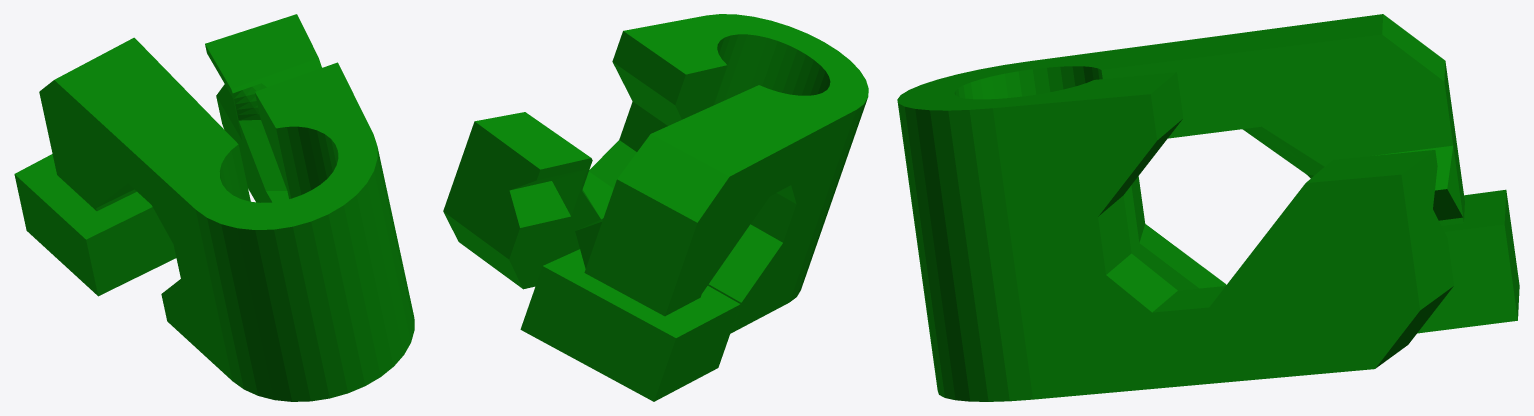
The model's file is barClamp1_3.dae.
3 renders of one model, left to right at view 1: azimuth 30°, elevation 25°; view 2: azimuth 150°, elevation 25°; view 3: azimuth 270°, elevation 25°, orthographic. The views are drawn at different scales.
Visible parts, largest first — view 1: scrap2; view 2: scrap2; view 3: scrap2.
Boxes of the visible parts, box(x1,y1,x2,y2) form: scrap2: box(14, 14, 414, 401); scrap2: box(443, 14, 868, 401); scrap2: box(897, 14, 1519, 401).
Bounding box in the file's own units: 0.0783 × 0.1162 × 0.072.
